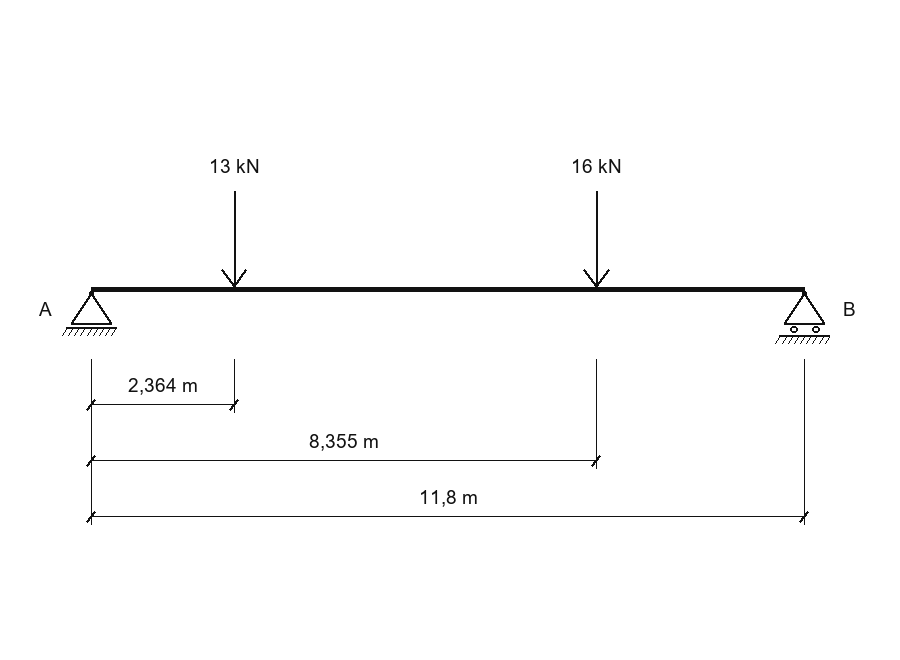pin_support: (62, 291, 117, 336)
point_load: (583, 191, 610, 288), (221, 191, 247, 288)
roller_support: (775, 291, 830, 344)
